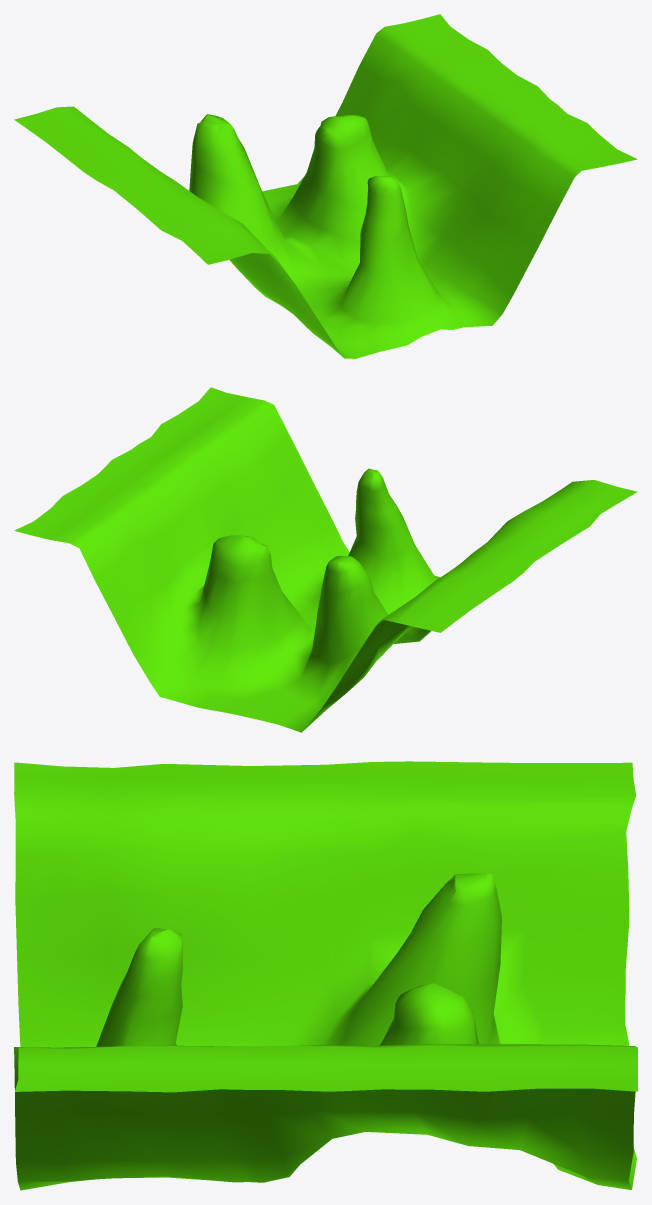
3 views of the same model, one above another, from view 1: azimuth 30°, elevation 25°; view 2: azimuth 150°, elevation 25°; view 3: azimuth 270°, elevation 25° (orthographic). The views are drawn at different scales.
Visible parts, largest first — view 1: Plane; view 2: Plane; view 3: Plane.
Part boxes in pixels (<box>): Plane: <box>14,14,637,358</box>; Plane: <box>14,387,637,732</box>; Plane: <box>14,761,637,1190</box>.
Bounding box in the file's own units: 3806 × 1145 × 3037.
